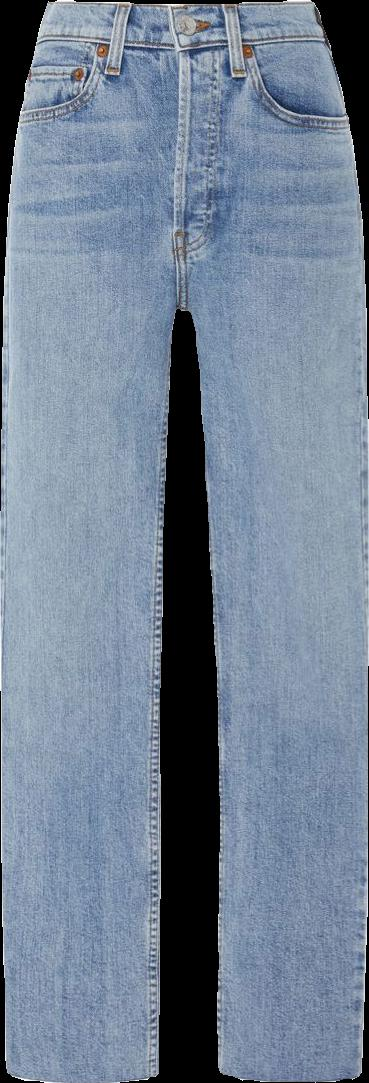Hemline: (4, 1063, 160, 1082), (219, 1063, 362, 1082)
Pantleg: (179, 2, 368, 1080), (1, 0, 180, 1082)
Waistline: (33, 31, 330, 55), (45, 0, 317, 17)
